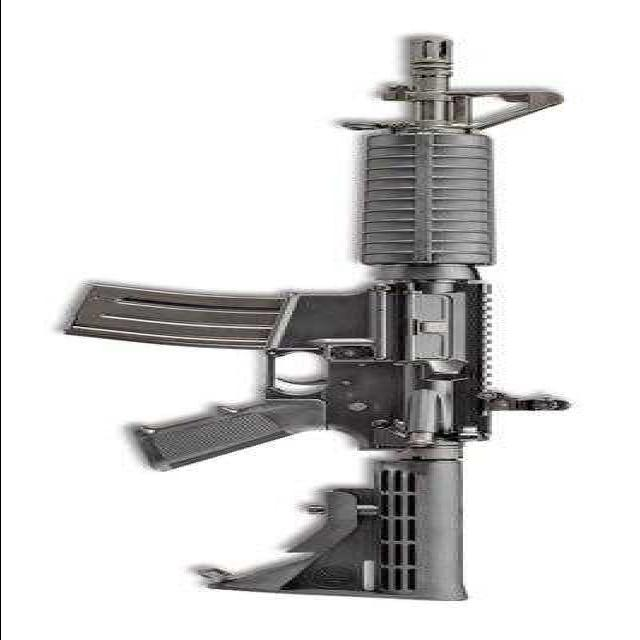heavyweapon: (30, 22, 596, 608)
